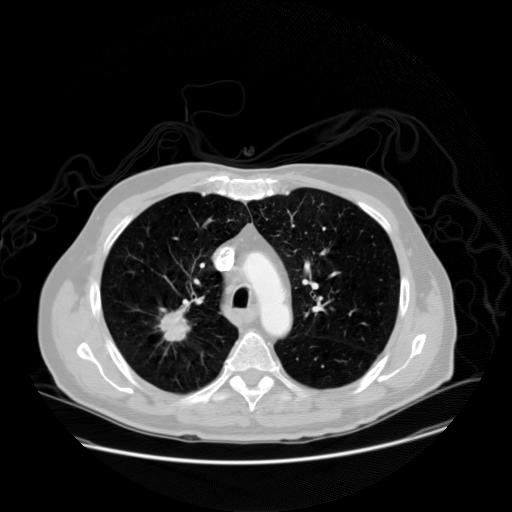nodule: (155, 308, 191, 344)
